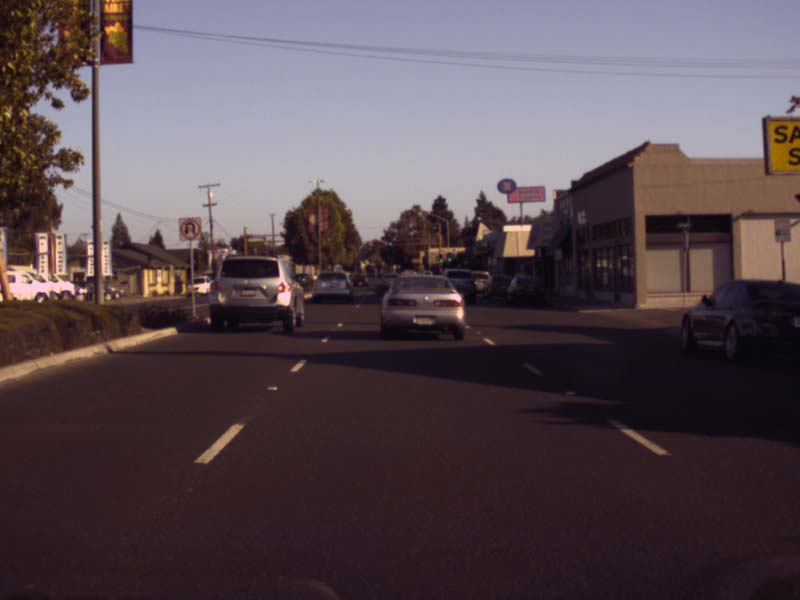Green: (438, 254, 444, 262), (388, 234, 392, 245), (447, 253, 451, 261)
